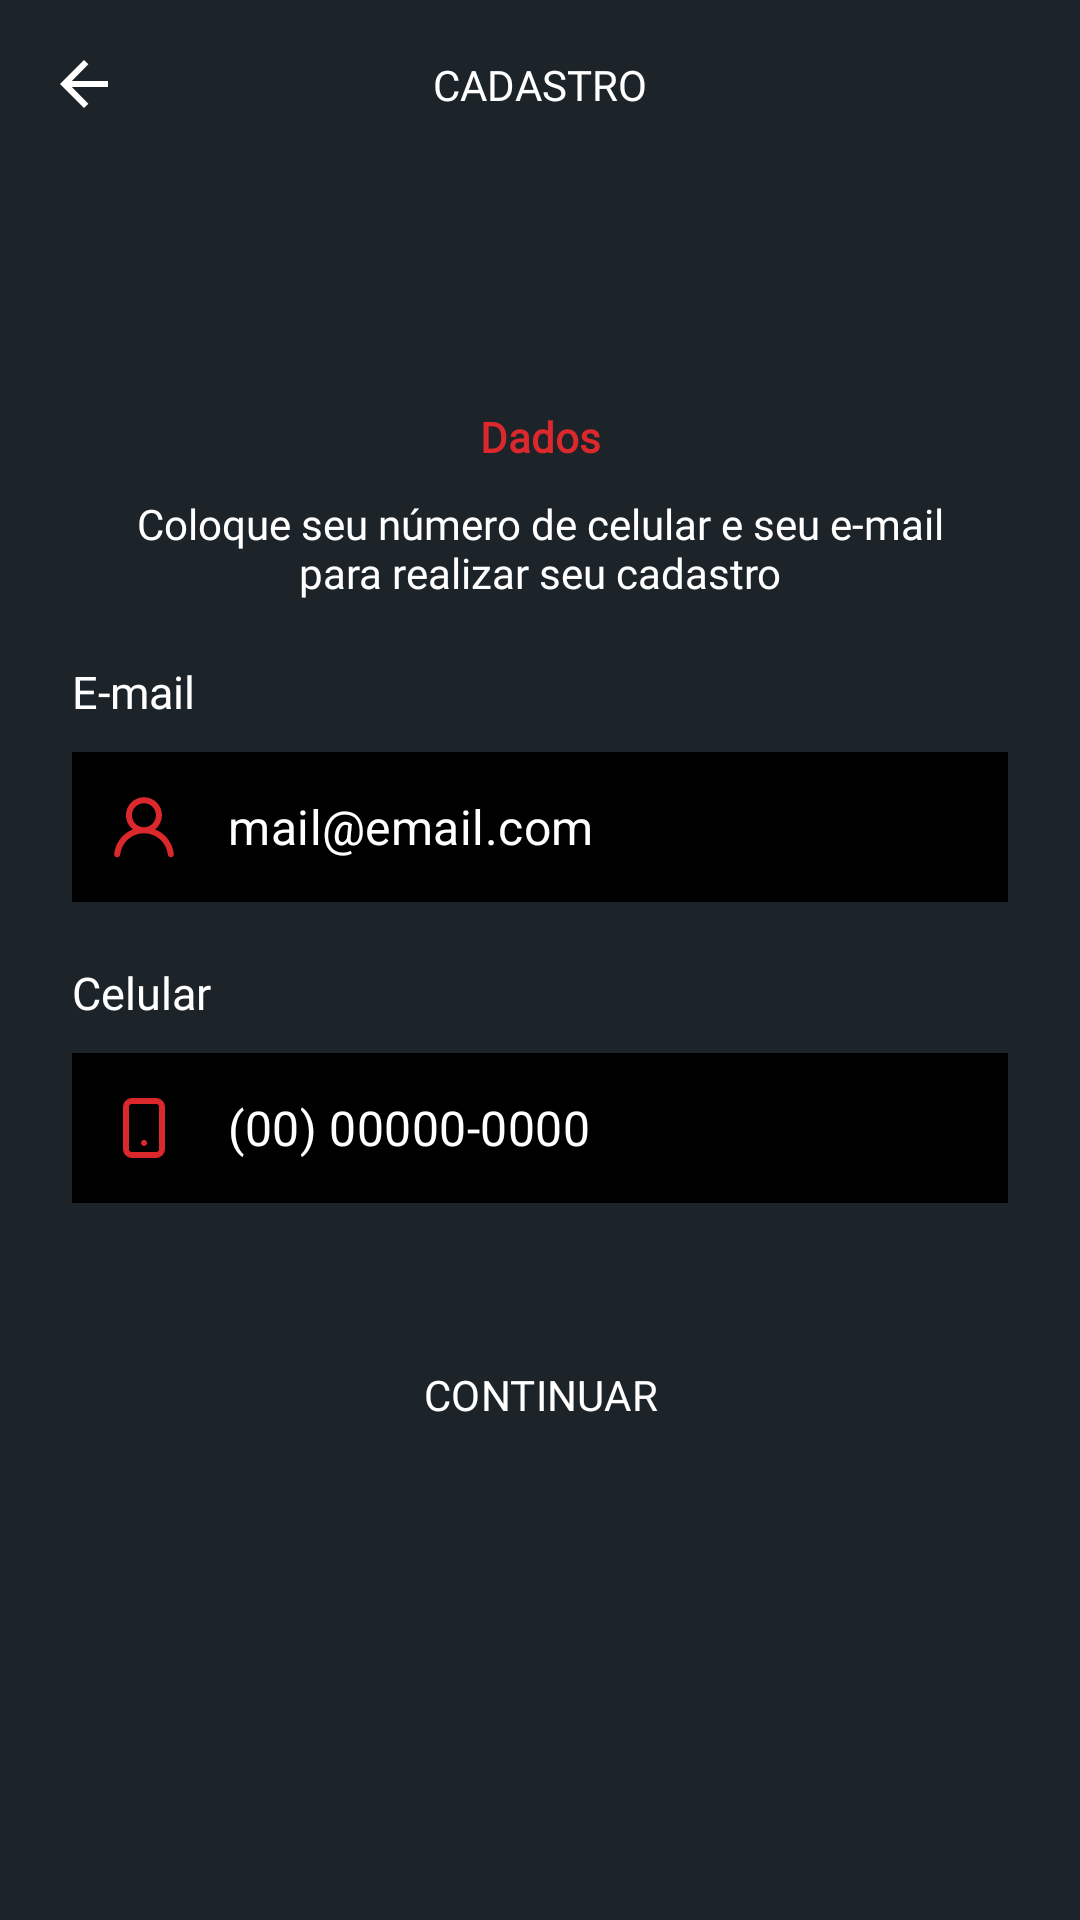

Icons on this 1080*1920 Android screen, each with the point to tap as [x,y]:
left arrow: [84,84]
